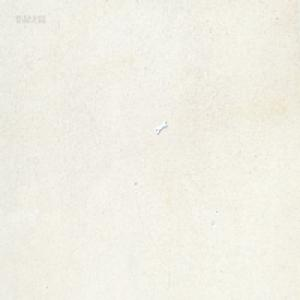Wrench: (155, 122, 167, 135)
